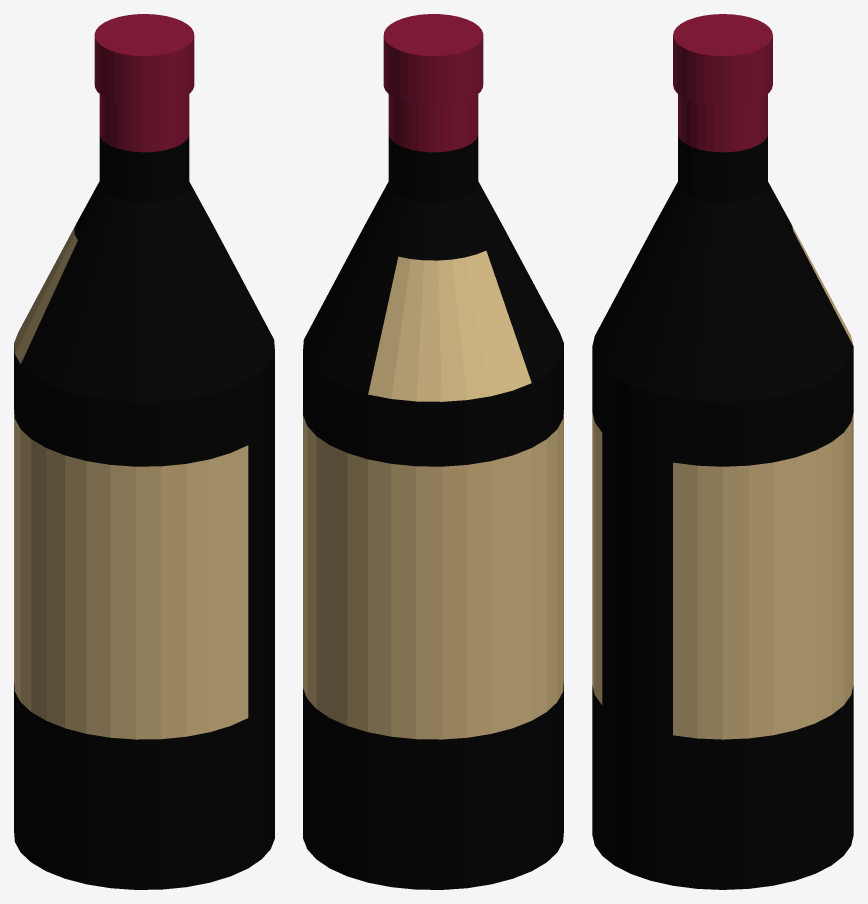
Rendered from WineBottleV1.fbx.
The picture shows the model from 3 angles, left to right: view 1: azimuth 30°, elevation 25°; view 2: azimuth 150°, elevation 25°; view 3: azimuth 270°, elevation 25°; orthographic projection.
Visible parts, largest first — view 1: Cylinder; view 2: Cylinder; view 3: Cylinder.
Part boxes in pixels (x1,y1,x2,y2): Cylinder: (14, 14, 274, 889); Cylinder: (303, 14, 563, 889); Cylinder: (592, 14, 853, 889).
Size of the model in its own units: 128 by 128 by 433.
